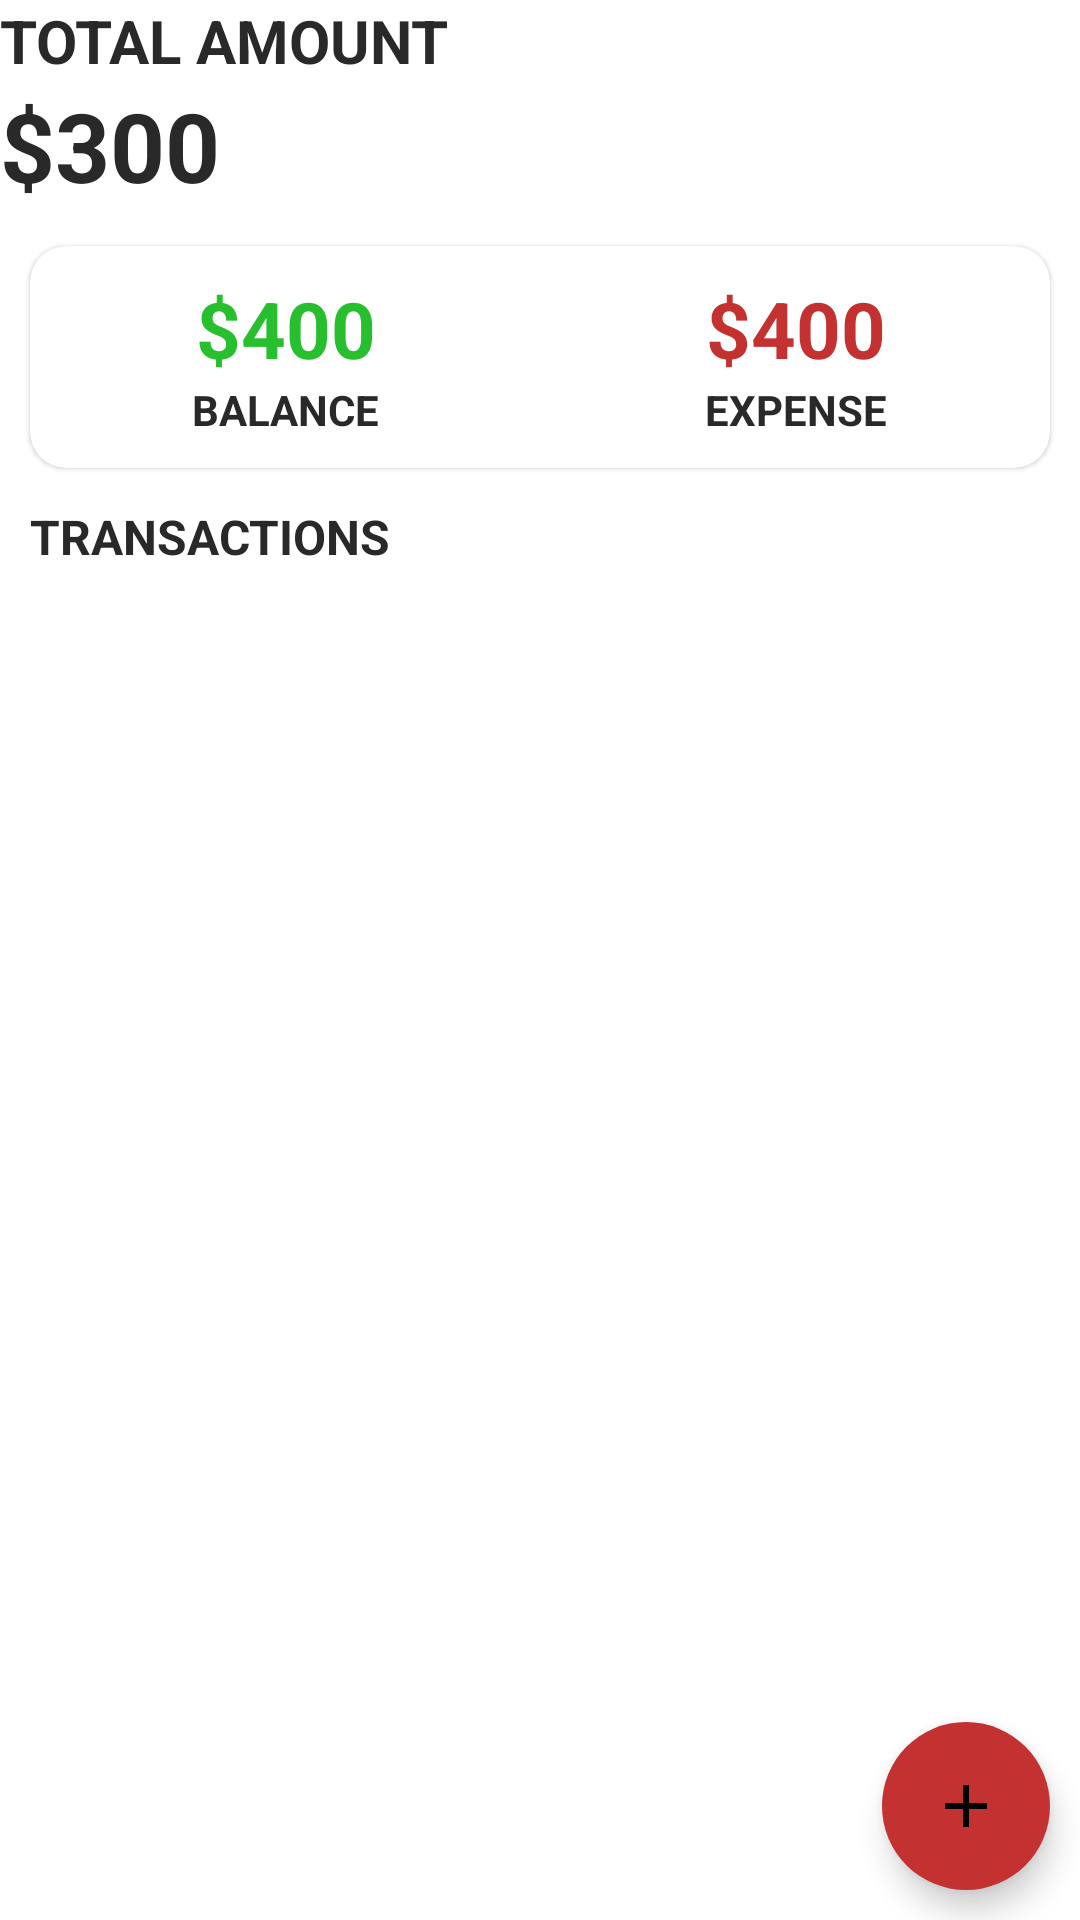

Named icons in this screenshot (1080px x 1920px) and their bounding boxes, {"left": x1, "top": y1, "right": x2, "bottom": y2}:
add: {"left": 882, "top": 1722, "right": 1050, "bottom": 1890}
